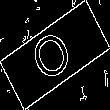O_SE: (29, 22, 81, 88)
